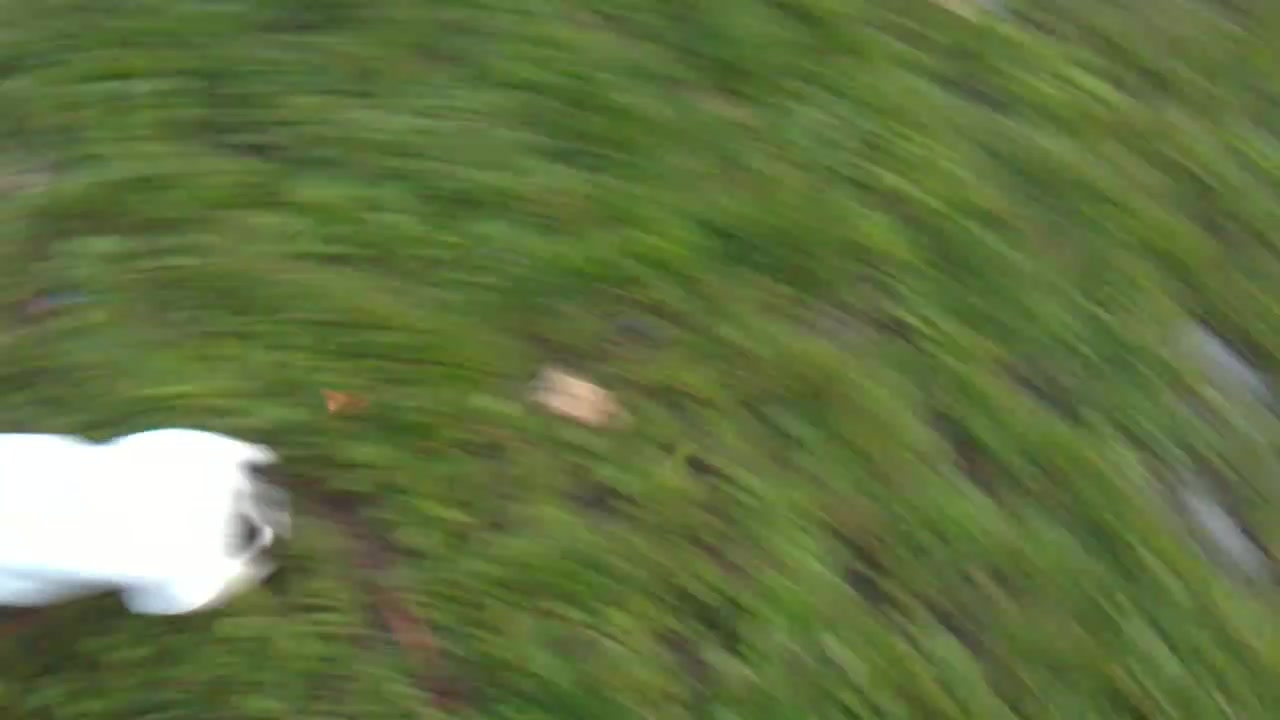dog: (1, 418, 291, 619)
